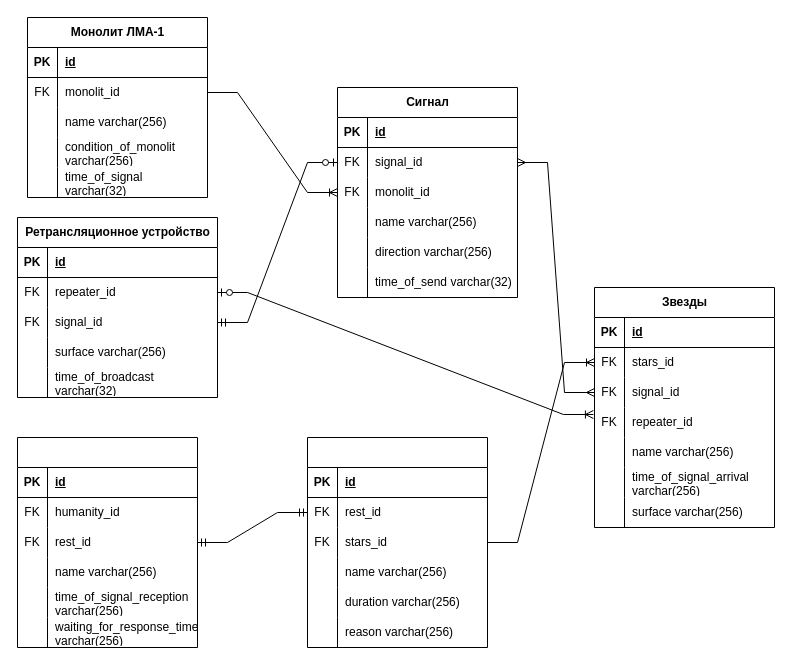
This 792x665 diagram has some shape labels left out. Each missing label, with the box of its shape:
Передышка: (306, 436, 488, 648)
Человечество: (16, 436, 198, 648)
